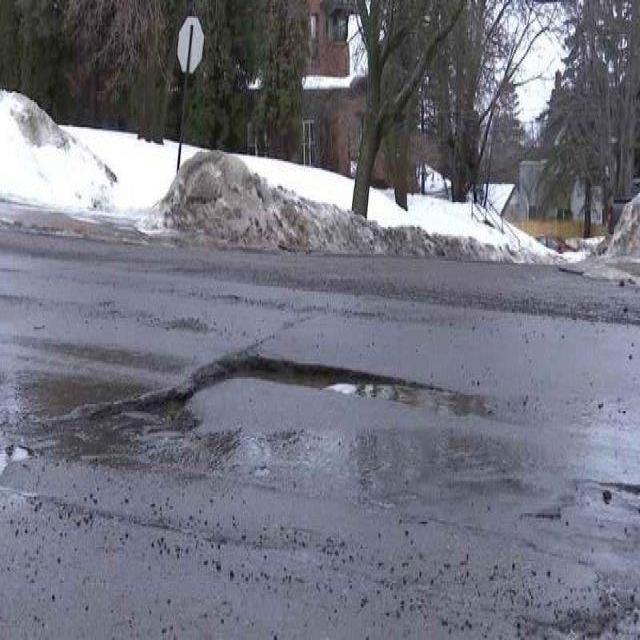jalan retak: (515, 489, 594, 541)
lubang: (62, 334, 456, 467), (510, 584, 640, 640), (0, 406, 39, 506), (588, 470, 640, 523)
